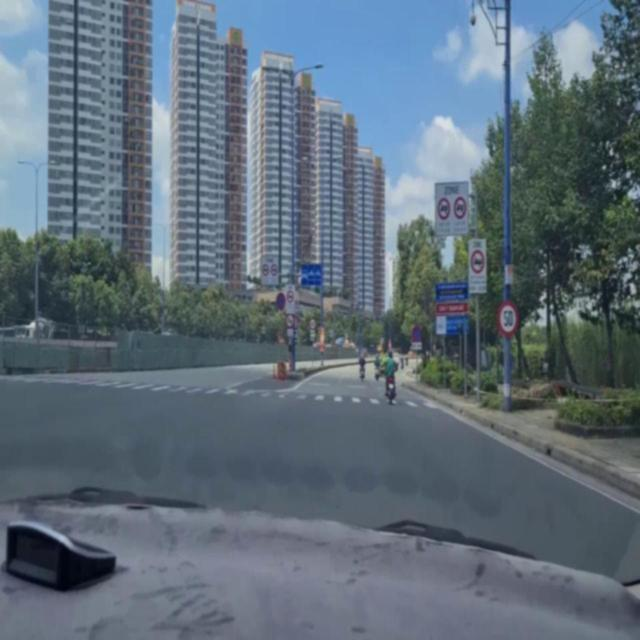Cấm các phương tiện hoạt động trong khung giờ cố định: (430, 175, 471, 235), (464, 238, 491, 295), (258, 248, 283, 289)
Cấm dừng - Cấm đỗ: (274, 288, 287, 310), (411, 319, 422, 343)
Cấm xe máy: (284, 310, 295, 329)
Giới hạn tốc độ: 50Km/h: (500, 299, 518, 333)
Giới hạn tốc độ: 80Km/h: (308, 315, 317, 328)
Khác: (435, 282, 470, 334)
Làn đường cho từng xe: (299, 260, 322, 291)
